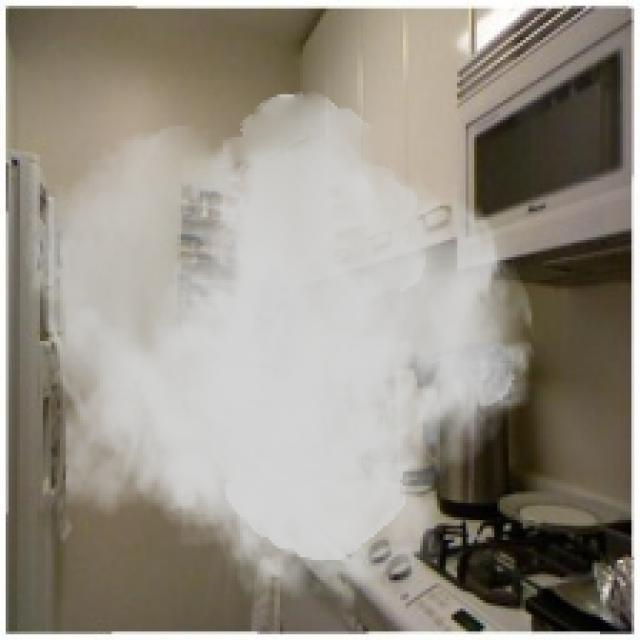Smoke: (20, 91, 540, 614)
